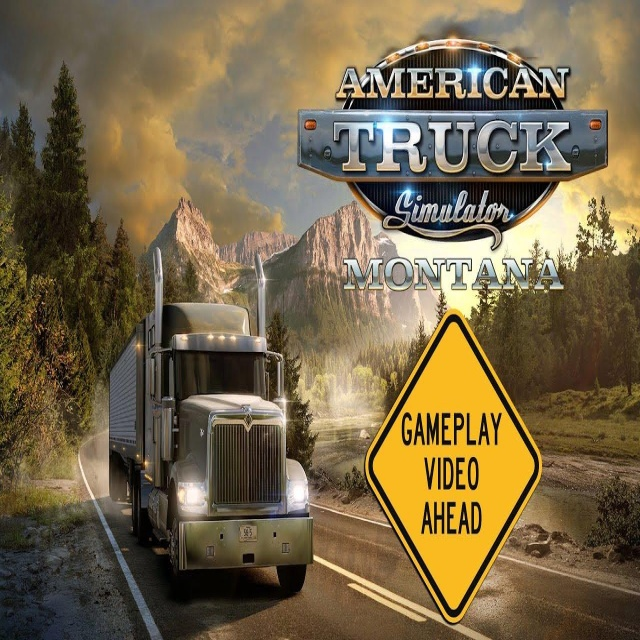Truck: (109, 302, 313, 594)
